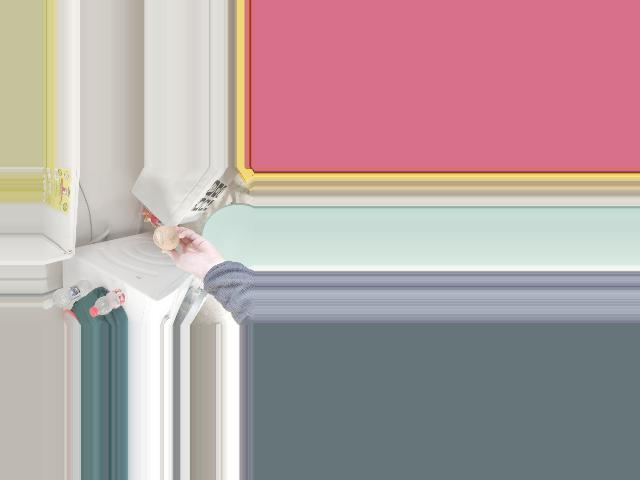sweet_potato: (154, 227, 182, 250)
